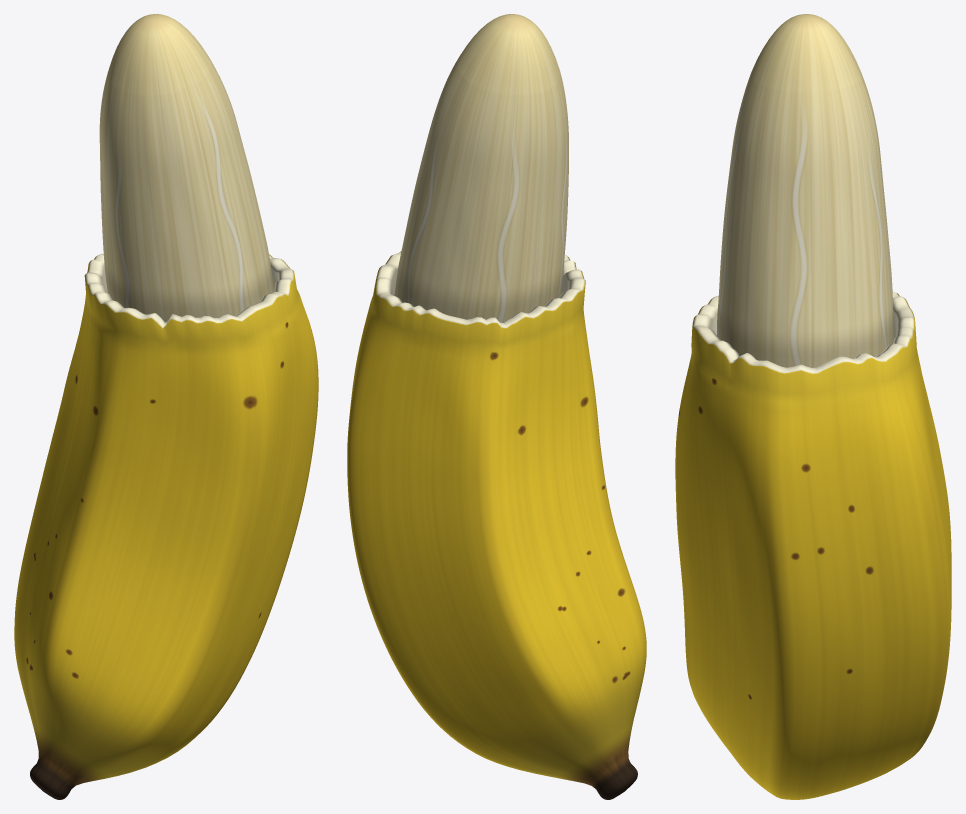
File: banana.glb
3 views of the same model, side by side, from view 1: azimuth 30°, elevation 25°; view 2: azimuth 150°, elevation 25°; view 3: azimuth 270°, elevation 25° (orthographic). The views are drawn at different scales.
Visible parts, largest first — view 1: banana; view 2: banana; view 3: banana.
Boxes of the visible parts, x1,y1,x2,y2 form: banana: [14, 14, 318, 799]; banana: [347, 14, 646, 799]; banana: [675, 14, 951, 799].
Bounding box in the file's own units: 0.3776 × 1.01 × 0.3137.
Materials: 2 (2 with a texture image).
